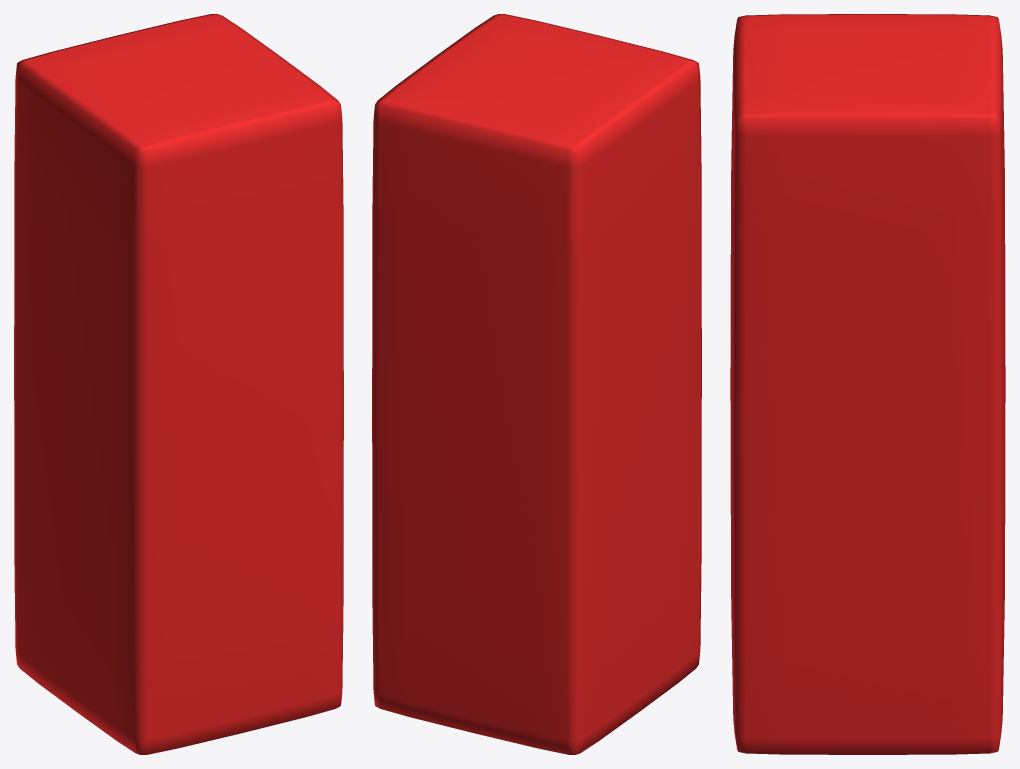
The model's file is brakecaliper_fl.glb.
The picture shows the model from 3 angles, left to right: view 1: azimuth 30°, elevation 25°; view 2: azimuth 150°, elevation 25°; view 3: azimuth 270°, elevation 25°; orthographic projection. The views are drawn at different scales.
Visible parts, largest first — view 1: GEO_BrakeCaliper_FL; view 2: GEO_BrakeCaliper_FL; view 3: GEO_BrakeCaliper_FL.
Part boxes in pixels (<box>): GEO_BrakeCaliper_FL: <box>14,14,343,754</box>; GEO_BrakeCaliper_FL: <box>372,14,701,754</box>; GEO_BrakeCaliper_FL: <box>730,14,1005,754</box>.
Size of the model in its own units: 0.0798 by 0.2198 by 0.0848.
